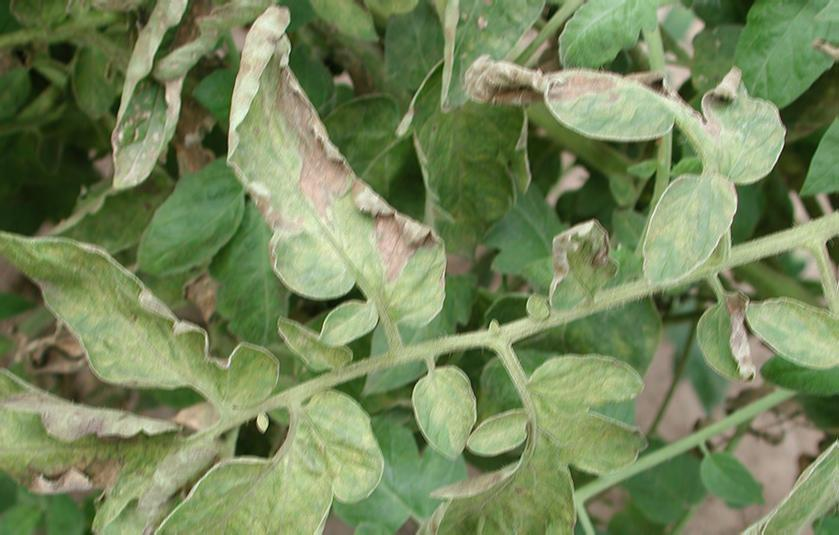Tomato mold leaf: (223, 1, 453, 330), (0, 222, 285, 411), (469, 43, 798, 175), (130, 382, 388, 535), (632, 171, 748, 295), (410, 361, 492, 461), (543, 217, 621, 317), (743, 299, 839, 378), (463, 406, 549, 460)
